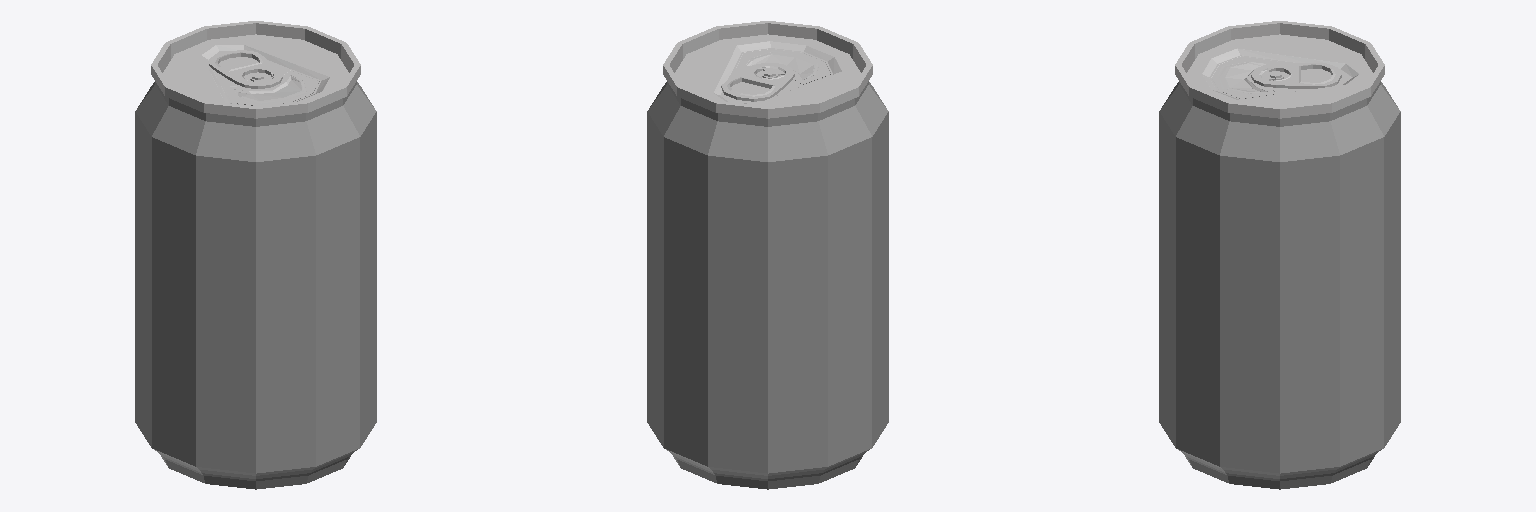
3 views of the same model, side by side, from view 1: azimuth 30°, elevation 25°; view 2: azimuth 150°, elevation 25°; view 3: azimuth 270°, elevation 25° (orthographic).
Visible parts, largest first — view 1: Cilindro1, Cilindro2, Disco; view 2: Cilindro1, Cilindro2, Disco; view 3: Cilindro1, Cilindro2, Disco.
Boxes of the visible parts, <box> form: Cilindro1: <box>135,81,376,489</box>; Cilindro2: <box>151,21,360,118</box>; Disco: <box>209,50,282,88</box>; Cilindro1: <box>647,81,888,489</box>; Cilindro2: <box>663,21,872,118</box>; Disco: <box>721,63,794,101</box>; Cilindro1: <box>1159,81,1400,489</box>; Cilindro2: <box>1175,21,1384,118</box>; Disco: <box>1251,63,1341,88</box>.
Size of the model in its own units: 5.5 by 9.61 by 5.5.
Materials: 2 (1 with a texture image).